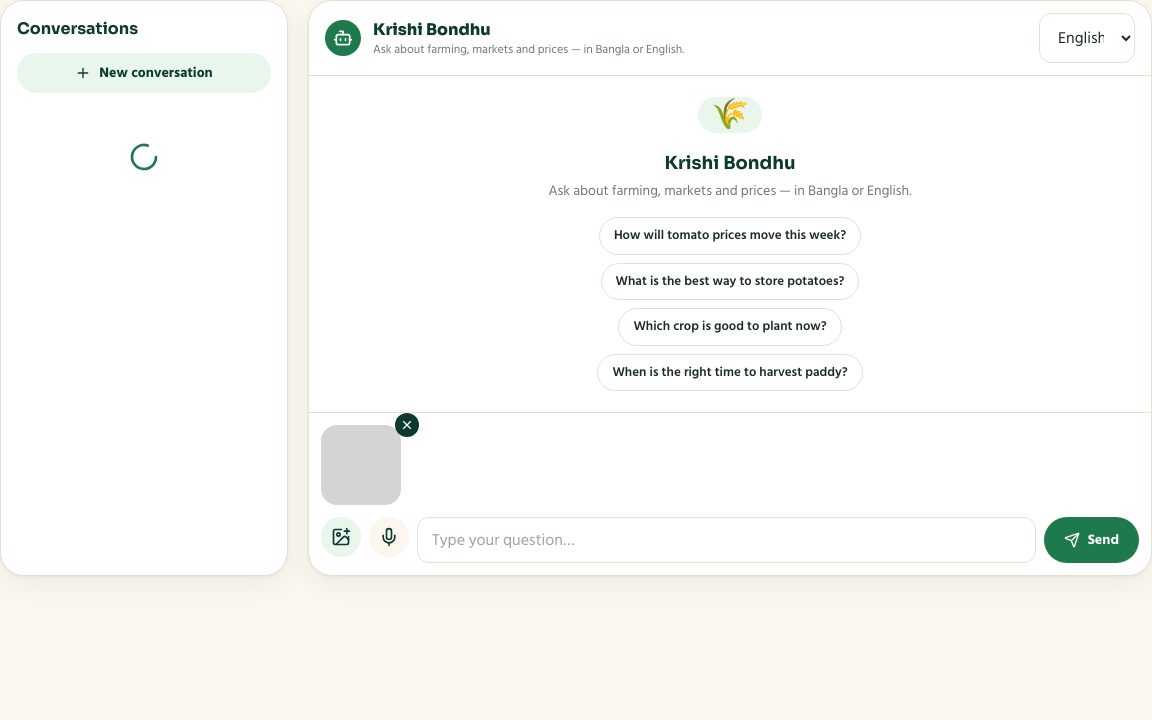
Scenario: AssistantPage voice › hides the speaker button for a Bangla reply when no Bangla voice exists
Earlier steps of the test are not shown.
Click the button "Send" at [1091, 540], box [1044,517,1139,563]
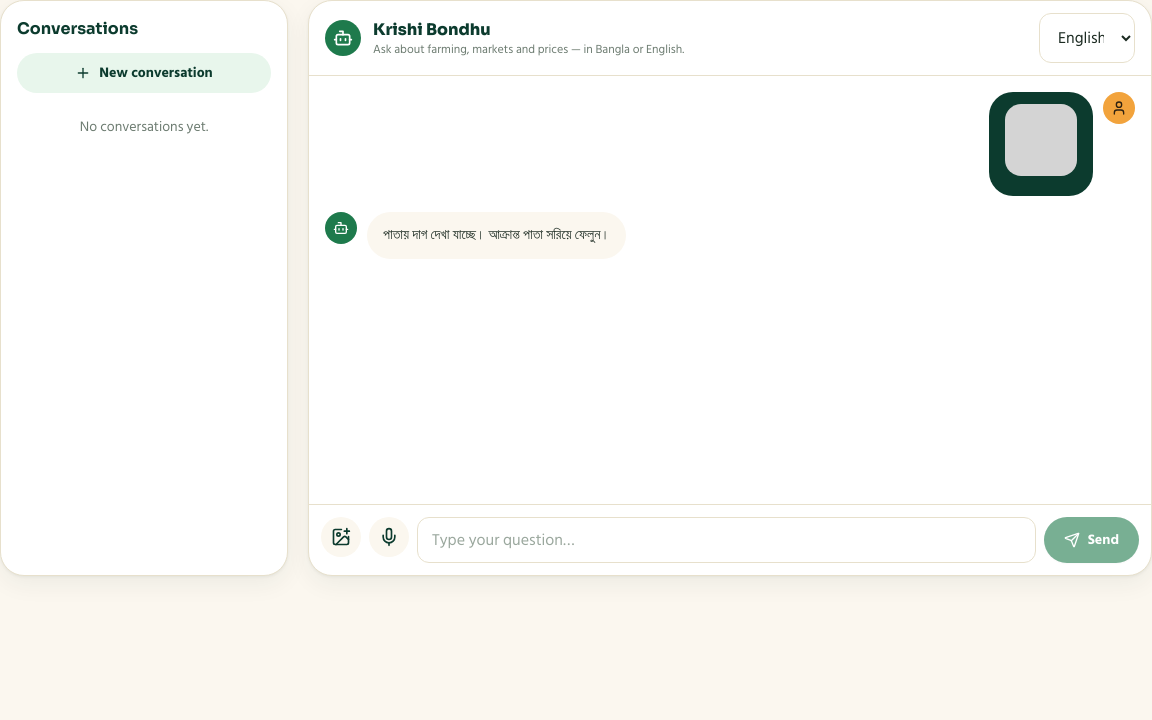
Expected: the text "পাতায় দাগ দেখা যাচ্ছে। আক্রান্ত পাতা সরিয়ে ফেলুন।" is shown, [383,224,610,247]
